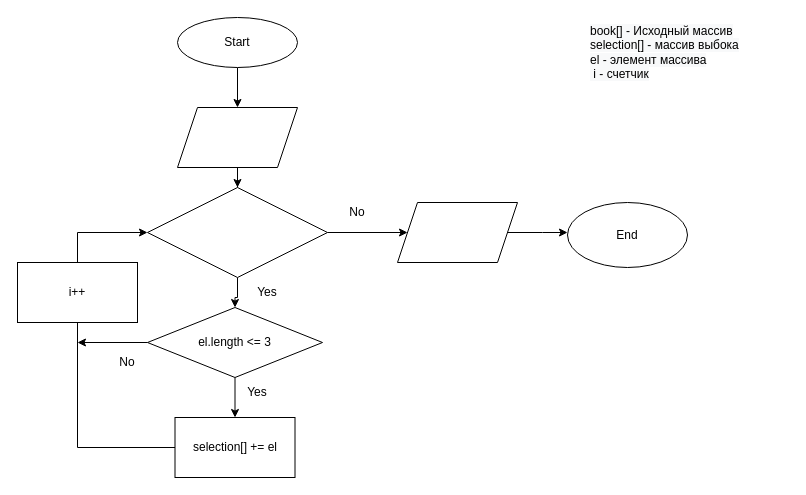
The diagram is 806 pixels wide and 495 high, and some of its shapes have lost their labels. The centre of each missing label's shape, as x and y in pixels:
"book[] selection[] i = 0" goes at (x=237, y=137).
"i < book.length" goes at (x=237, y=232).
"selection[]" goes at (x=457, y=232).
